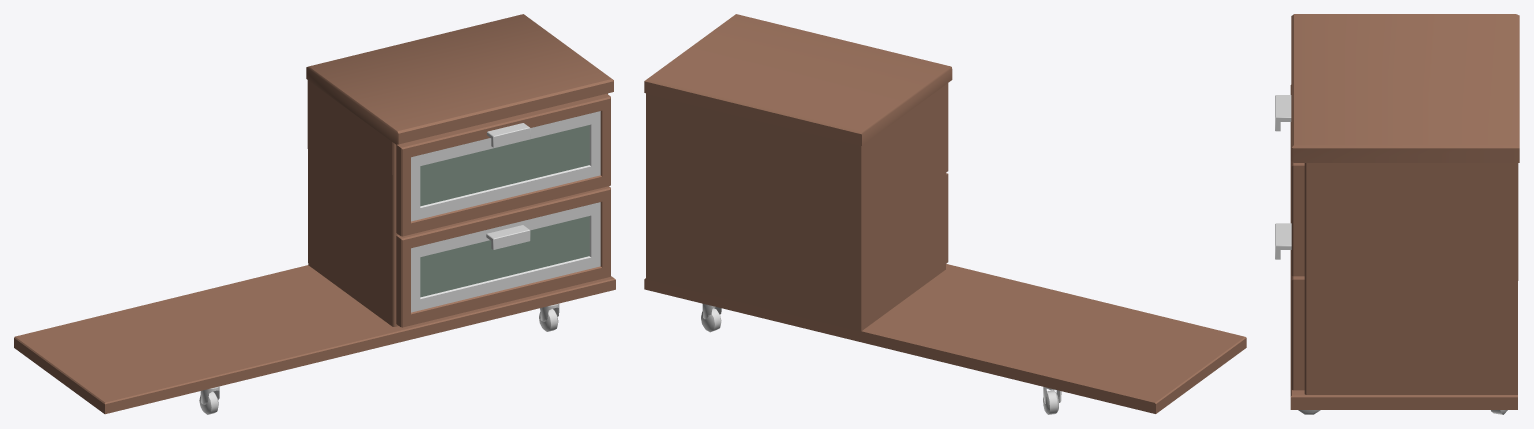
File: HopenBedsideTable.FBX
The picture shows the model from 3 angles, left to right: view 1: azimuth 30°, elevation 25°; view 2: azimuth 150°, elevation 25°; view 3: azimuth 270°, elevation 25°; orthographic projection. The views are drawn at different scales.
Parts seen in each view (by area): view 1: HopenBedsideTable; view 2: HopenBedsideTable; view 3: HopenBedsideTable.
Part boxes in pixels (x1=…): HopenBedsideTable: x1=14, y1=14, x2=615, y2=414; HopenBedsideTable: x1=644, y1=14, x2=1246, y2=414; HopenBedsideTable: x1=1275, y1=14, x2=1519, y2=414.
Bounding box in the file's own units: 130 × 43.04 × 58.77.
